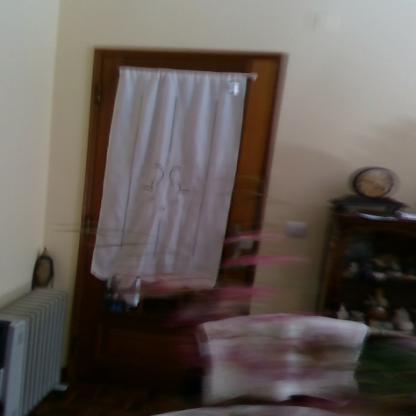door: (86, 54, 256, 366)
hinged: (96, 82, 104, 106), (84, 217, 92, 240)
knob: (238, 234, 256, 250)
